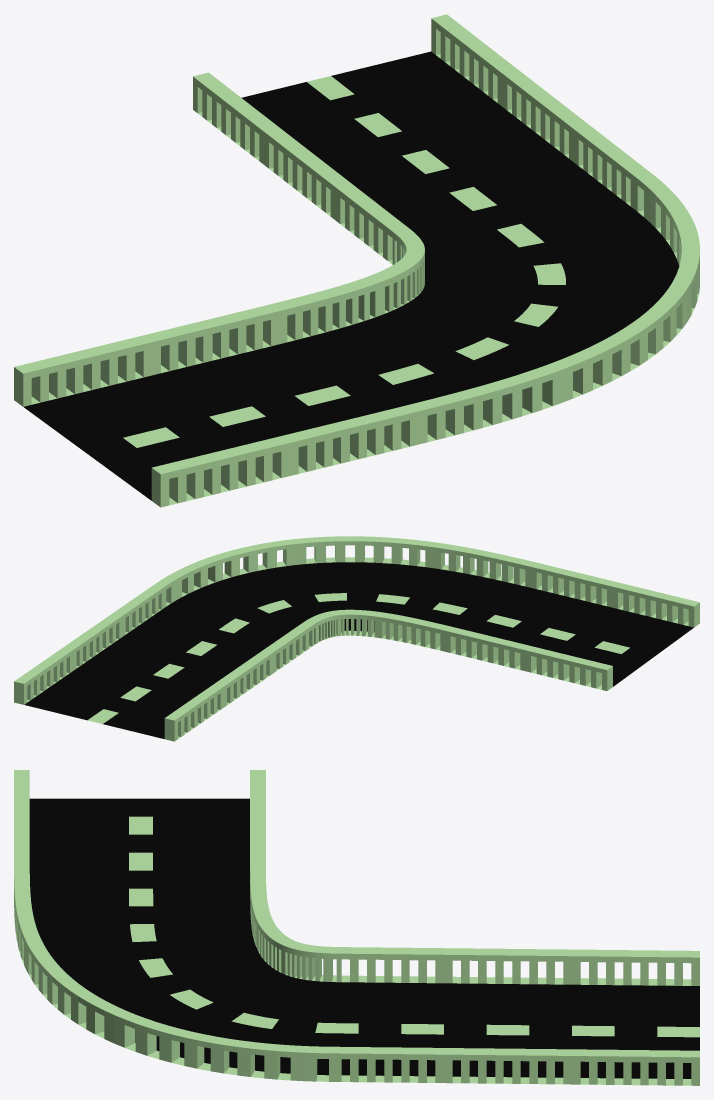
File: Sci-fi_raceTrackRight_Beta1.fbx
The picture shows the model from 3 angles, top to bottom: view 1: azimuth 30°, elevation 25°; view 2: azimuth 150°, elevation 25°; view 3: azimuth 270°, elevation 25°; orthographic projection. The views are drawn at different scales.
Parts seen in each view (by area): view 1: Plane, LeftWall, RightWall; view 2: Plane, LeftWall, RightWall; view 3: Plane, LeftWall, RightWall.
Part boxes in pixels (<box>): Plane: <box>24,51,679,500</box>; LeftWall: <box>151,14,699,507</box>; RightWall: <box>14,72,424,406</box>; Plane: <box>24,562,693,738</box>; LeftWall: <box>14,536,699,704</box>; RightWall: <box>164,609,612,741</box>; Plane: <box>29,798,699,1078</box>; LeftWall: <box>14,770,699,1085</box>; RightWall: <box>250,770,699,985</box>.
Bounding box in the file's own units: 2699 × 125 × 2724.
